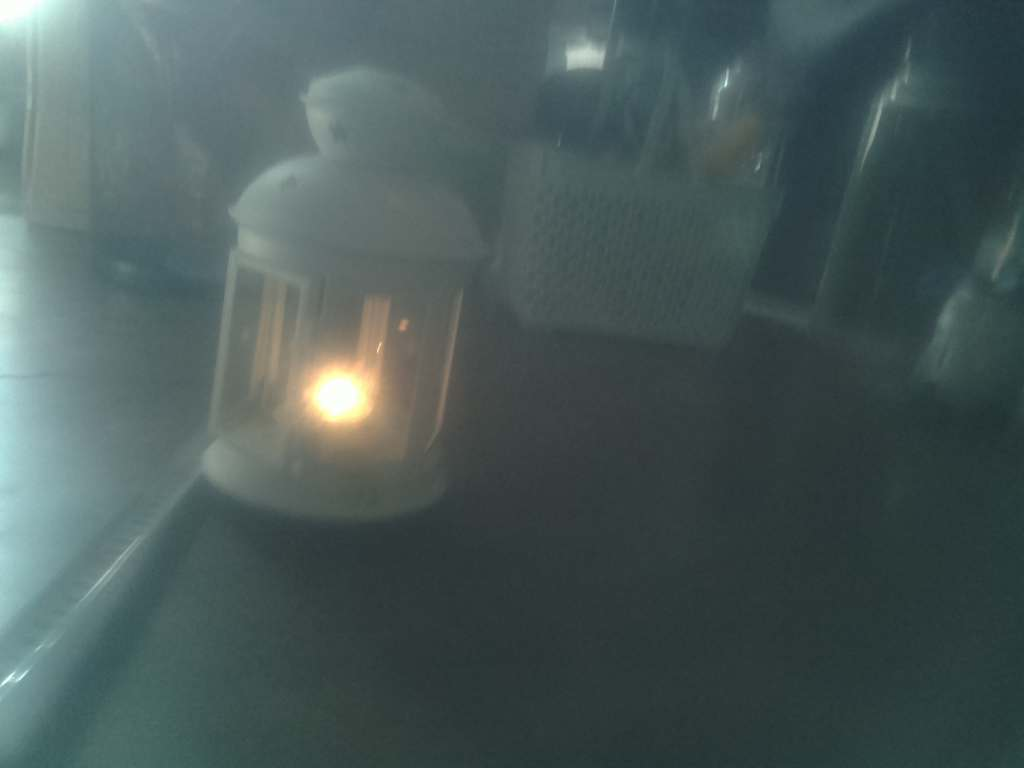fire: (292, 354, 393, 446)
